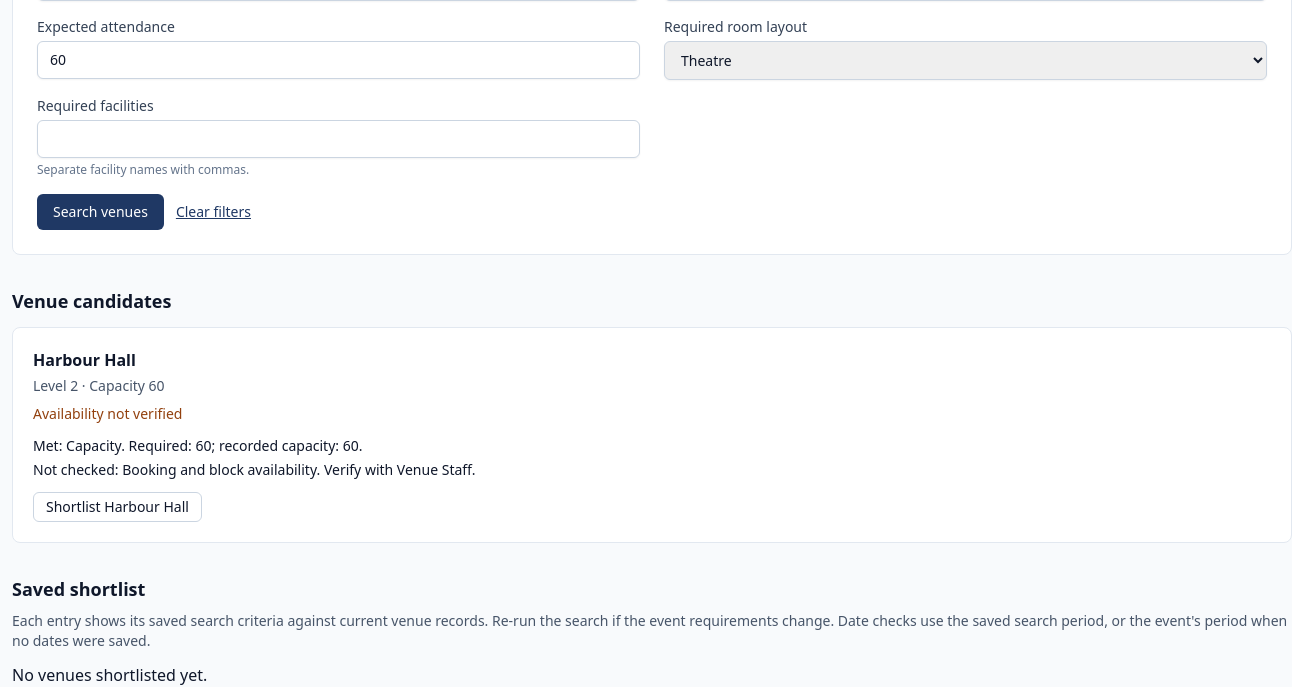
SCRUM-64/68 venue discovery › SCRUM-68 AC1: adds against the event and refreshes the saved shortlist
(page scrolled)
Click the button "Shortlist Harbour Hall".
click(117, 507)  # box left=33, top=492, right=202, bottom=522
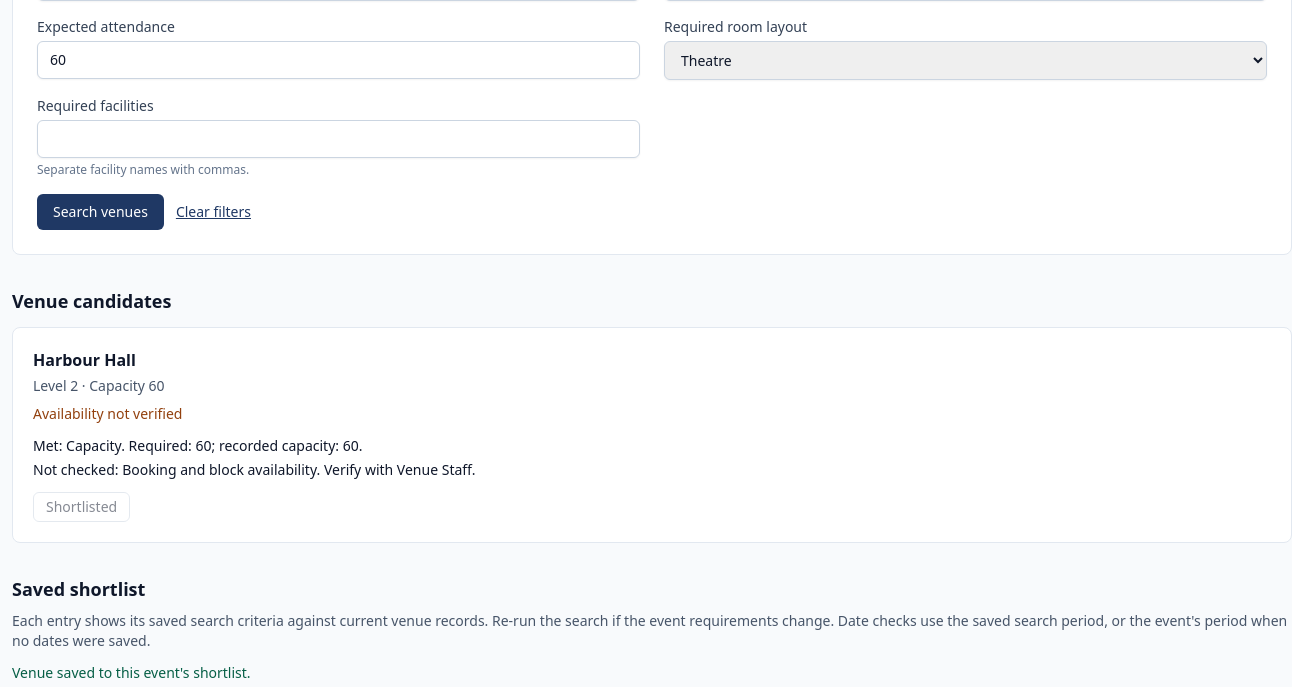
Expected: the button "Shortlisted" is disabled, left=33, top=492, right=130, bottom=522
Expected: the message shows "saved", left=12, top=663, right=251, bottom=682
